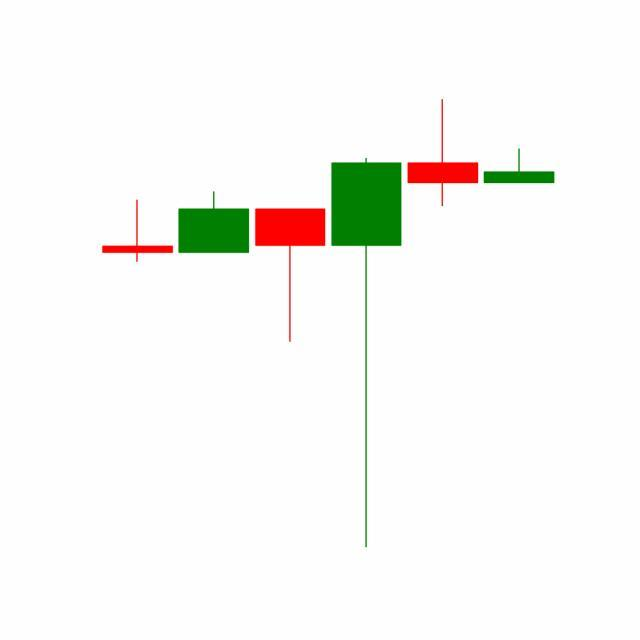Spinning Top: (404, 98, 482, 208)
